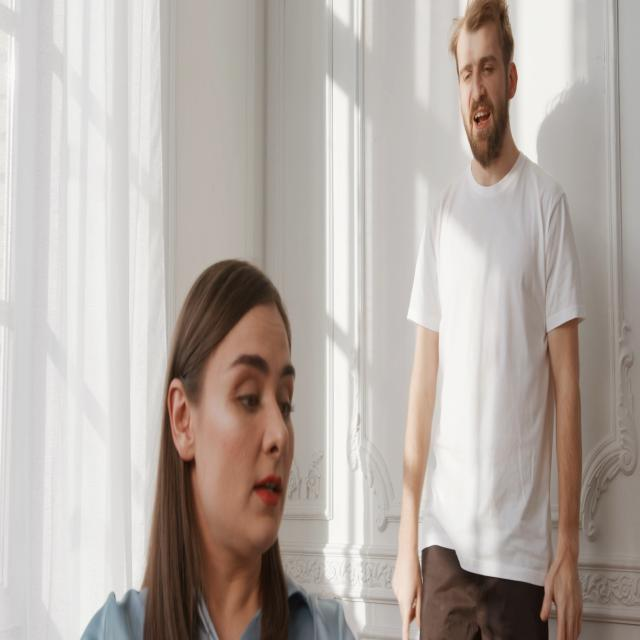satisfied: (178, 266, 324, 552)
stress: (438, 3, 533, 202)
